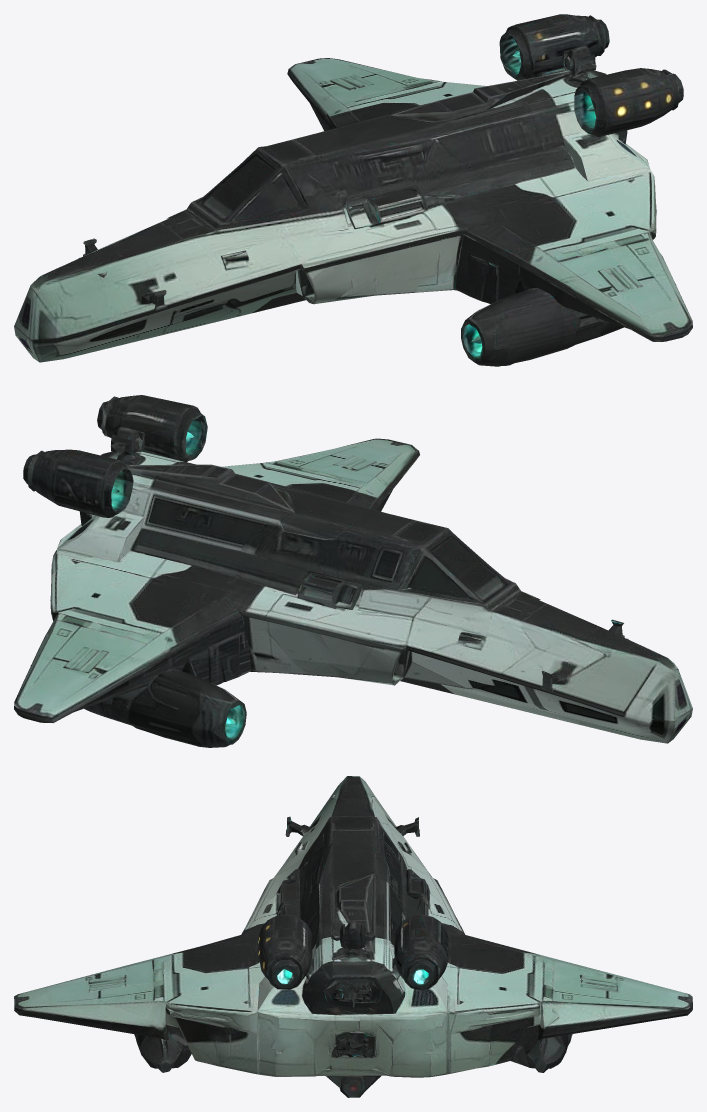
Rendered from vessel-swift.glb.
3 views of the same model, one above another, from view 1: azimuth 30°, elevation 25°; view 2: azimuth 150°, elevation 25°; view 3: azimuth 270°, elevation 25° (orthographic). The views are drawn at different scales.
Size of the model in its own units: 1.83 by 0.5486 by 1.9.
Materials: 1 (1 with a texture image).
